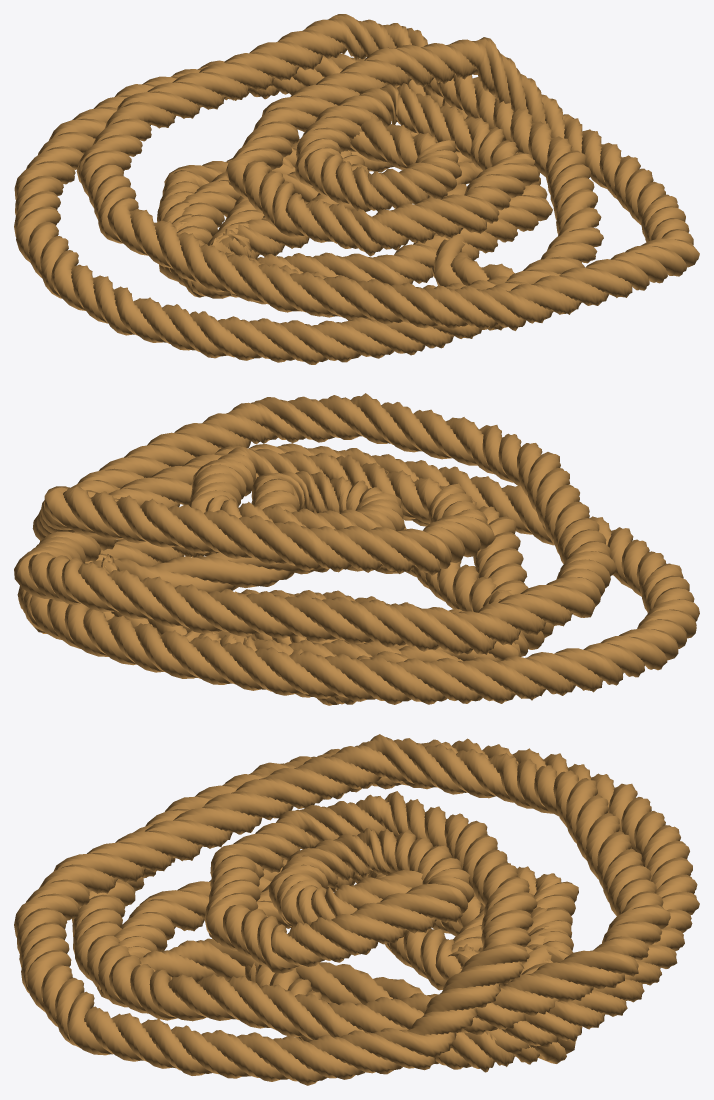
The model's file is Rope_Decoration.fbx.
3 views of the same model, one above another, from view 1: azimuth 30°, elevation 25°; view 2: azimuth 150°, elevation 25°; view 3: azimuth 270°, elevation 25° (orthographic). The views are drawn at different scales.
Visible parts, largest first — view 1: Circle; view 2: Circle; view 3: Circle.
Part boxes in pixels (x1,y1,x2,y2): Circle: (14, 14, 699, 364); Circle: (14, 393, 699, 705); Circle: (14, 734, 699, 1085).
Bounding box in the file's own units: 675 × 147 × 638.
